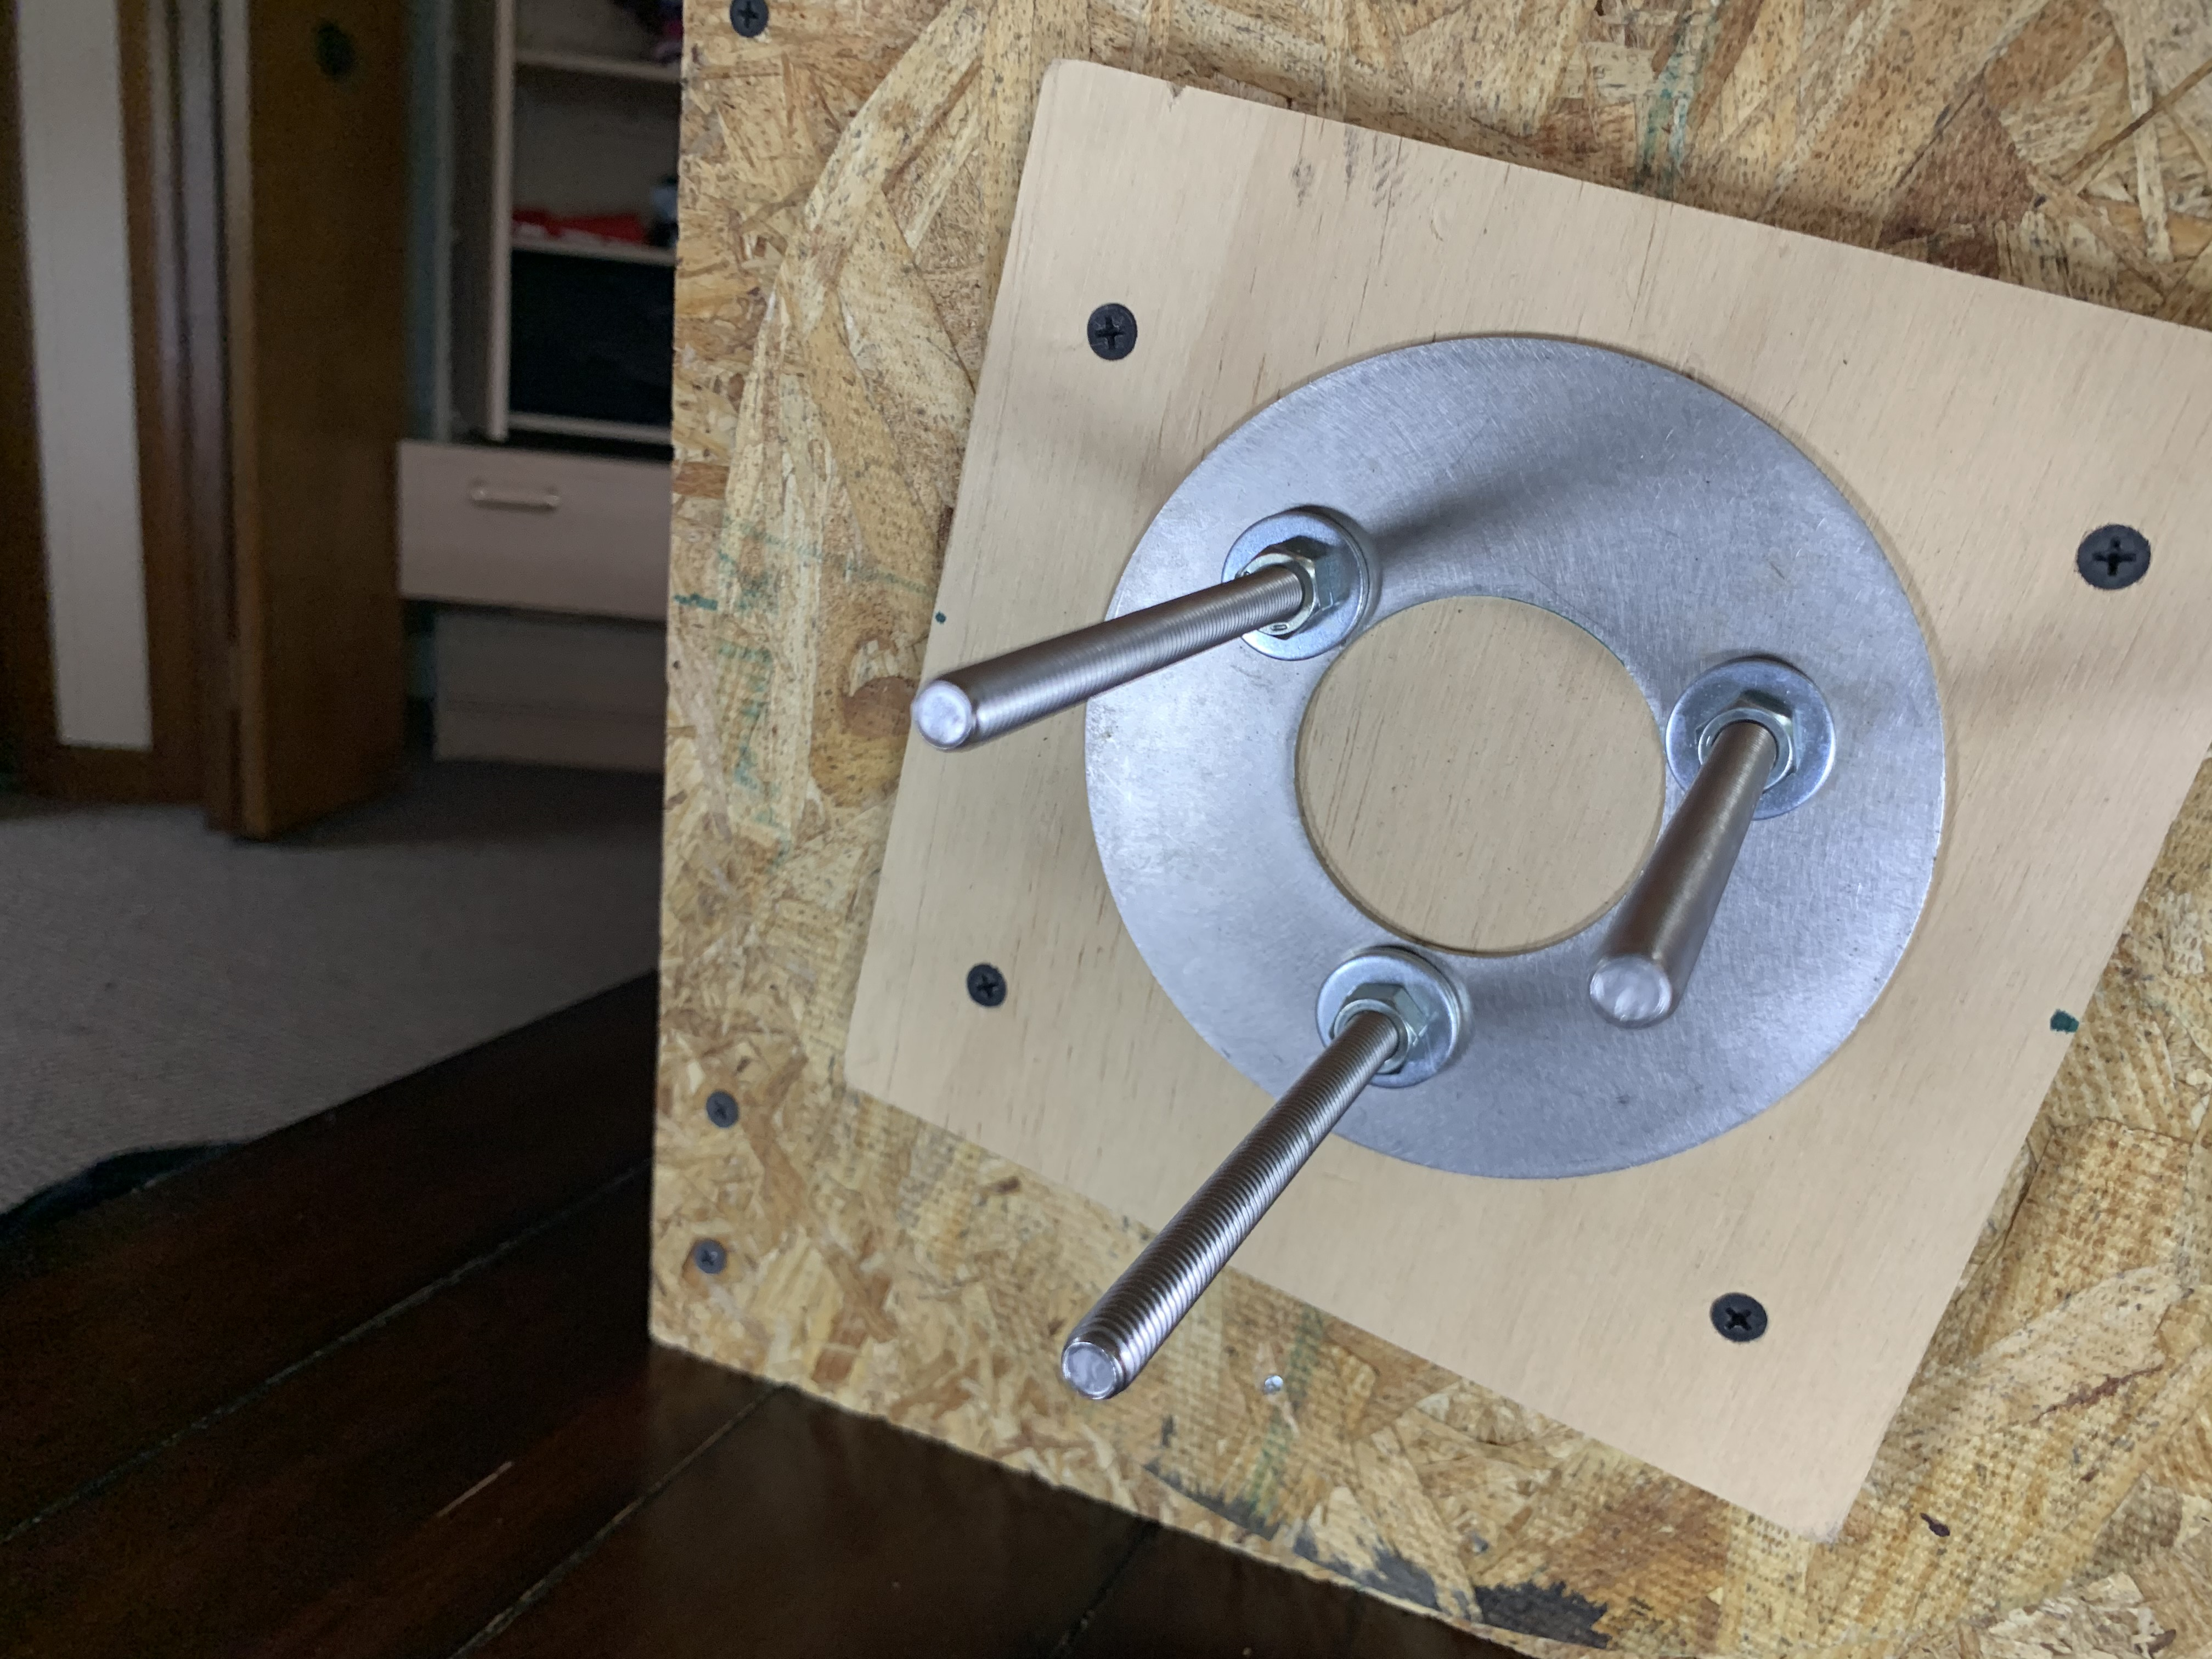bolt: (1660, 653, 1834, 824), (1217, 504, 1379, 660), (1312, 943, 1474, 1096)
